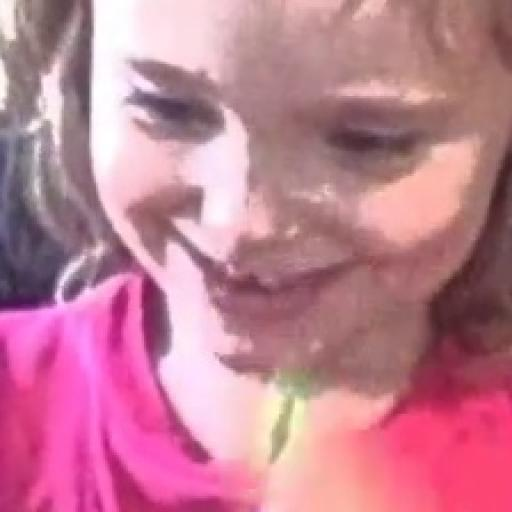Autism: (18, 4, 512, 370)
